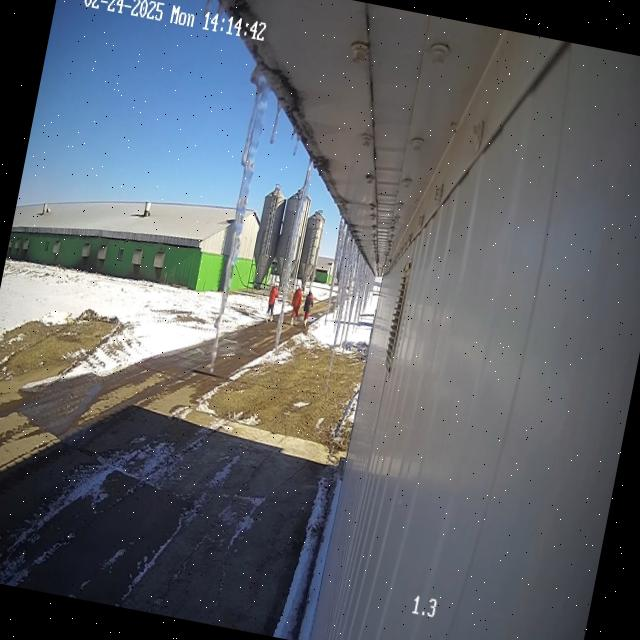Red uniform: (266, 276, 280, 322), (290, 281, 302, 325), (303, 291, 314, 327)
